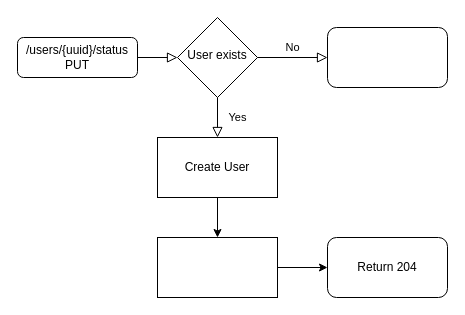
Image size: 465x315. Some labels were removed from this diagram. Each missing label, with the centre of its shape:
"Return 400" goes at [387,57].
"Send notification" goes at [217,267].
